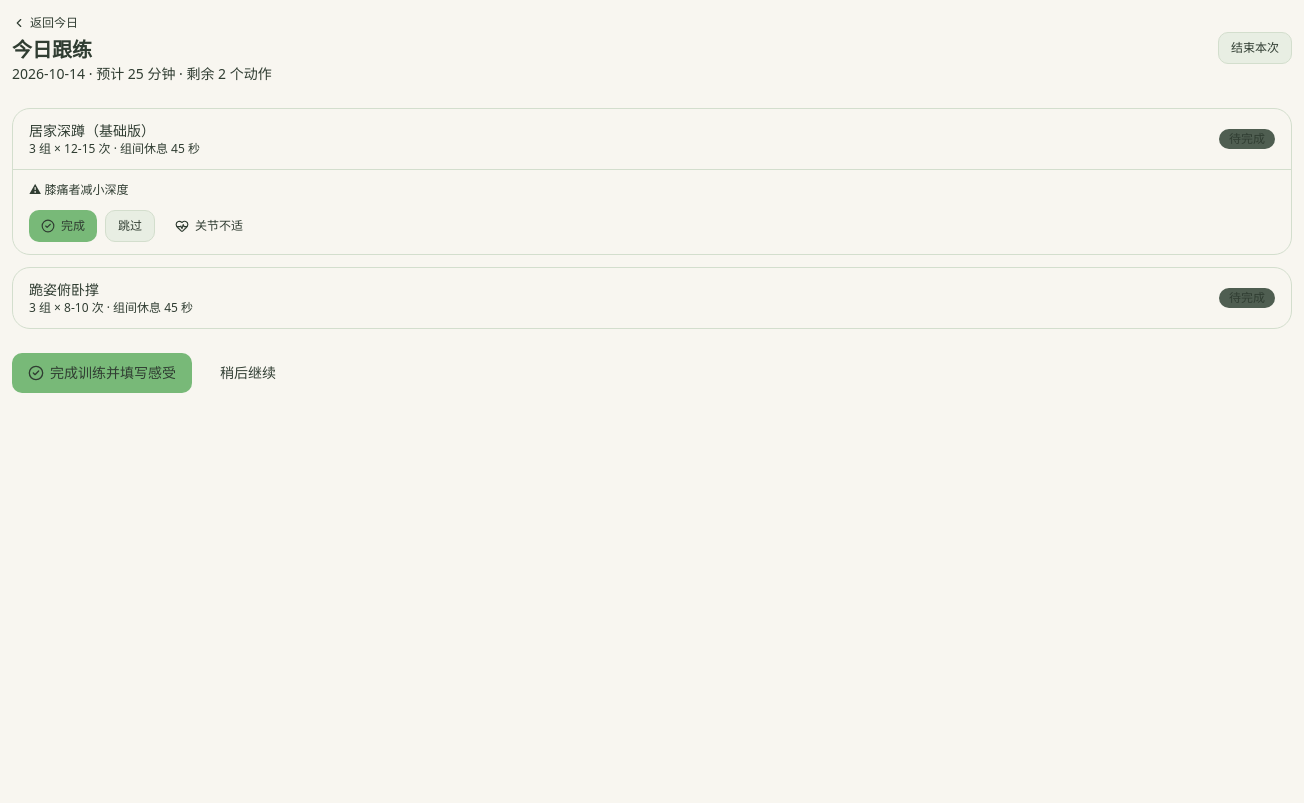
Test: WorkoutPage › reports joint discomfort: hard-blocks later exercises and offers alternatives
The width and height of the screenshot is (1304, 803).
Click the button with aria-label "关节不适 居家深蹲（基础版）".
click(209, 226)  # box x1=163 y1=210 x2=255 y2=242
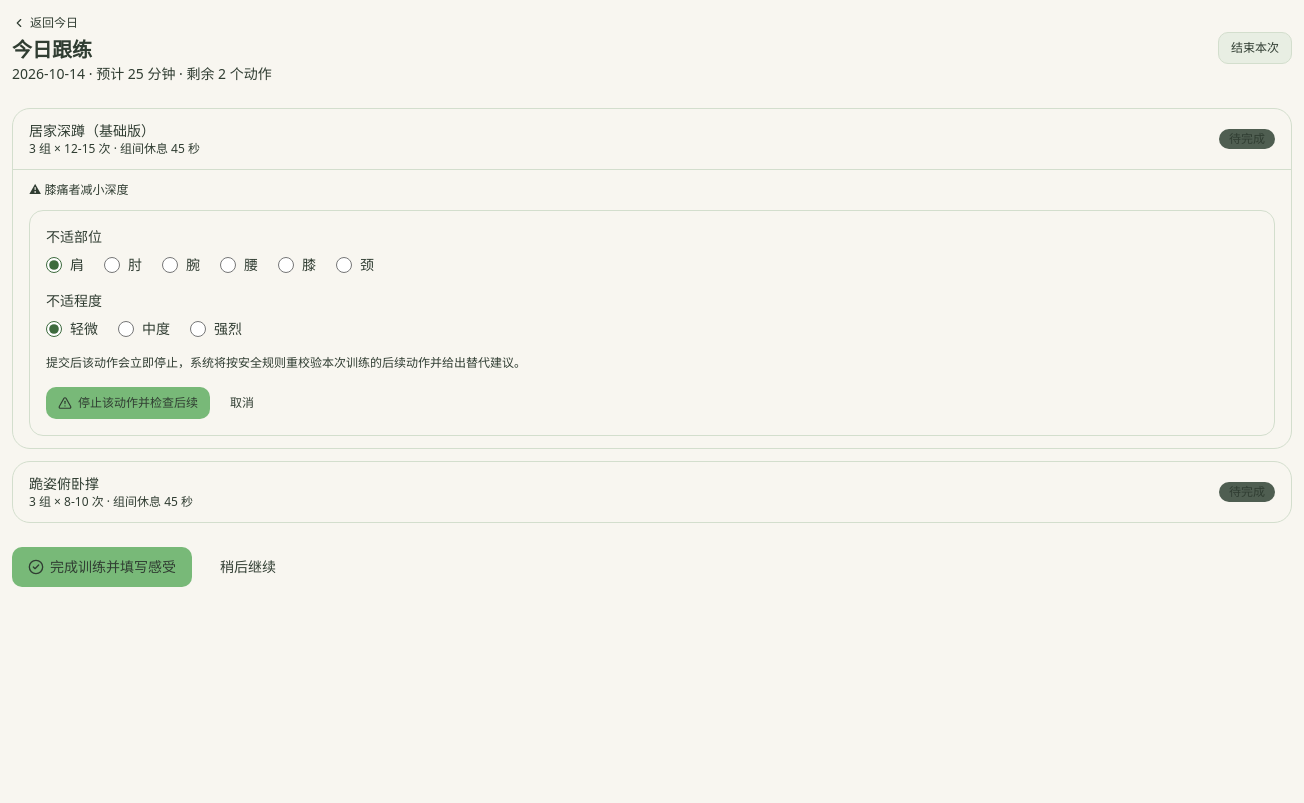
Click the radio button labelled "膝".
click(286, 265)  # box x1=278 y1=257 x2=294 y2=273
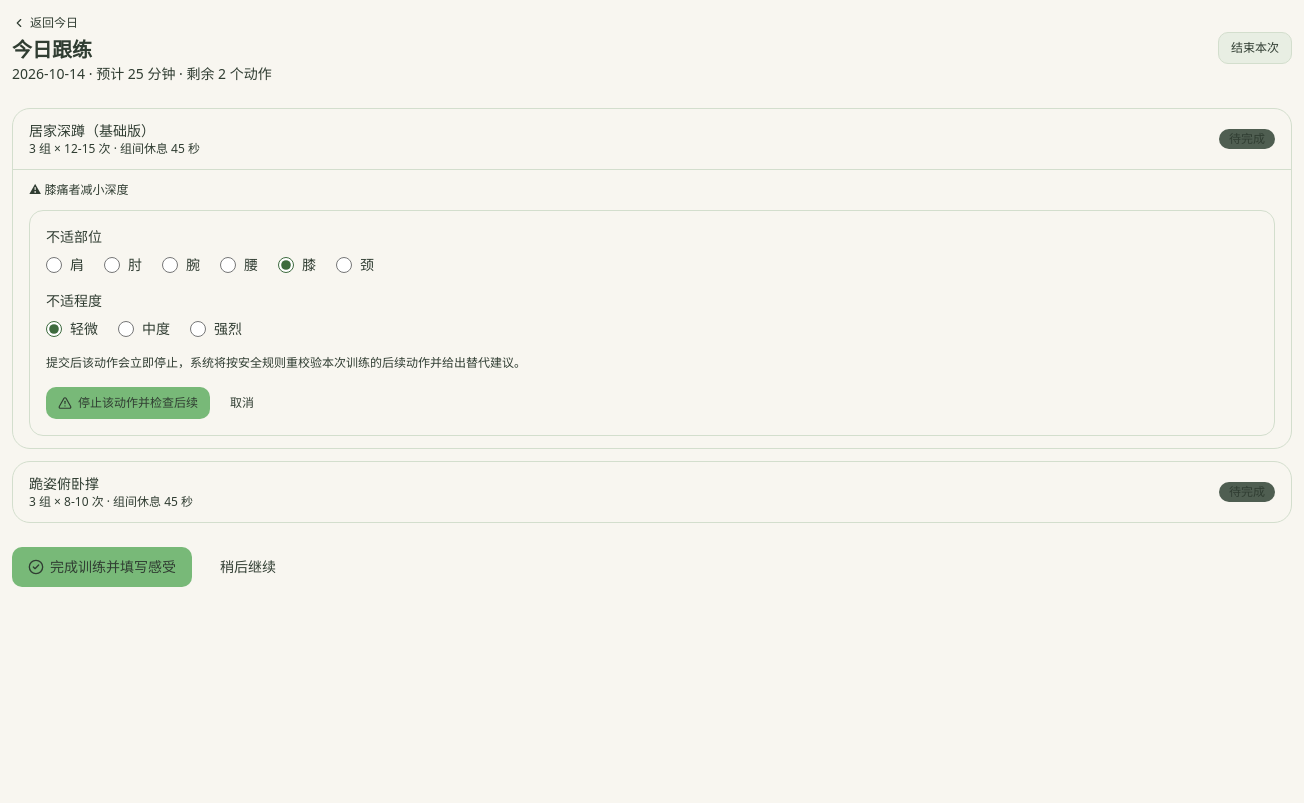
Click the radio button labelled "中度".
click(126, 329)  # box x1=118 y1=321 x2=134 y2=337
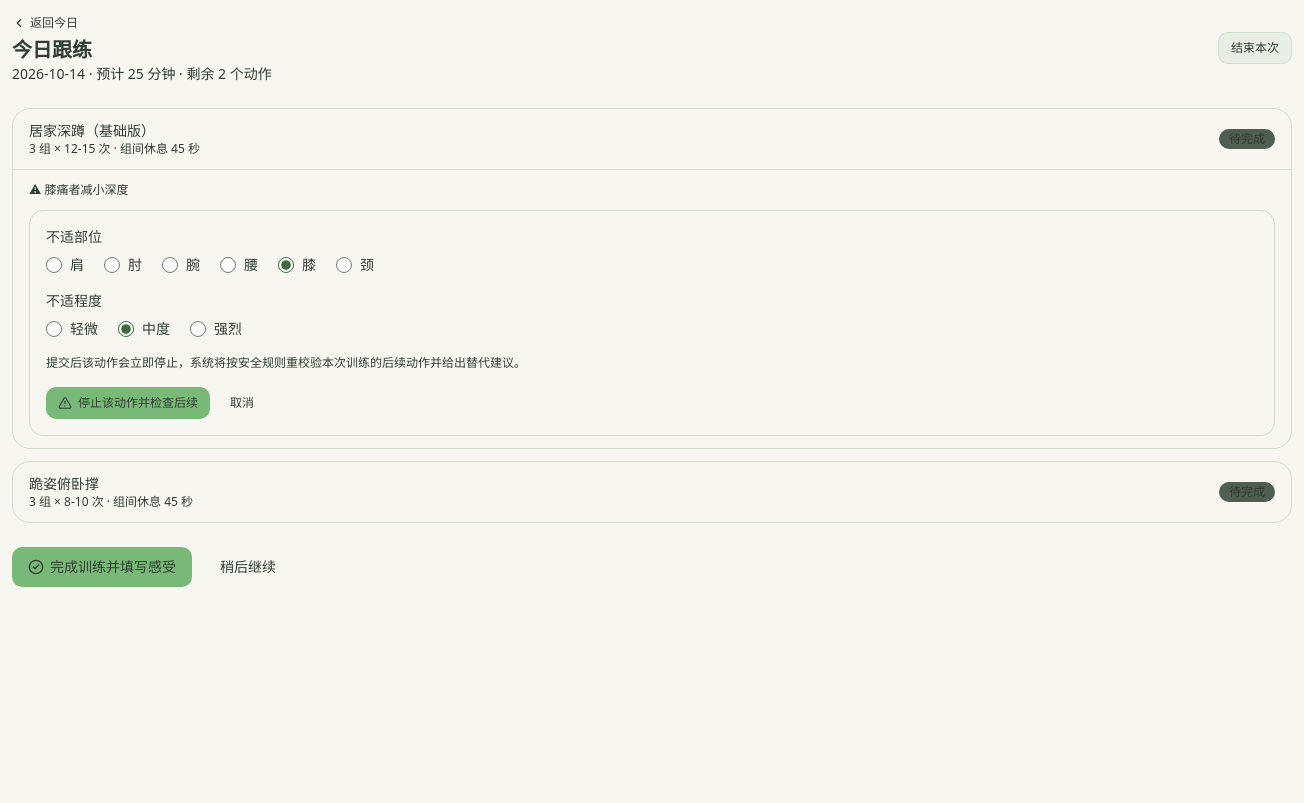
Click the button "停止该动作并检查后续".
click(128, 403)  # box x1=46 y1=387 x2=210 y2=419
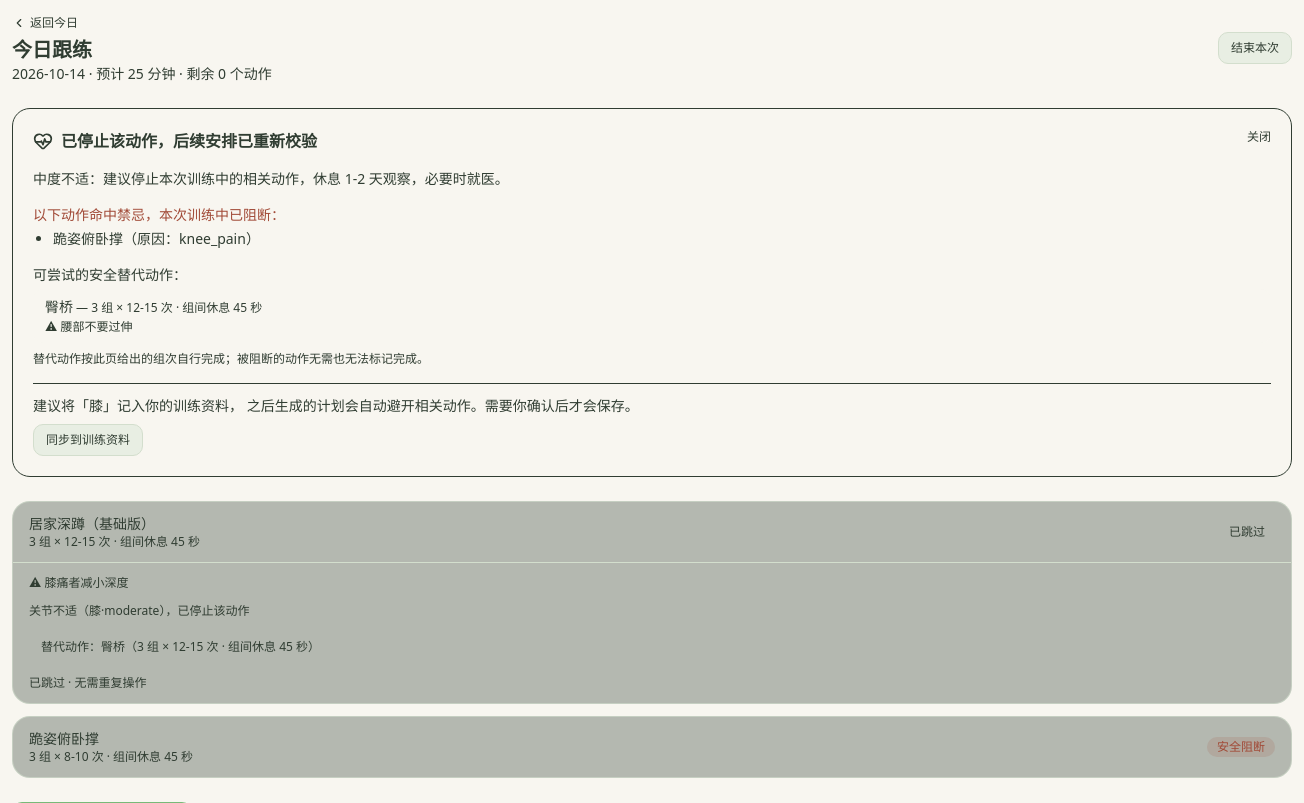
Expected: the text "中度不适：建议停止本次训练中的相关动作，休息 1-2 天观察，必要时就医。" is shown, x1=33 y1=169 x2=509 y2=188
Expected: the list item "跪姿俯卧撑（原因：knee_pain）" is shown, x1=53 y1=229 x2=260 y2=248
Expected: the text "臀桥" is shown, x1=45 y1=297 x2=73 y2=316
